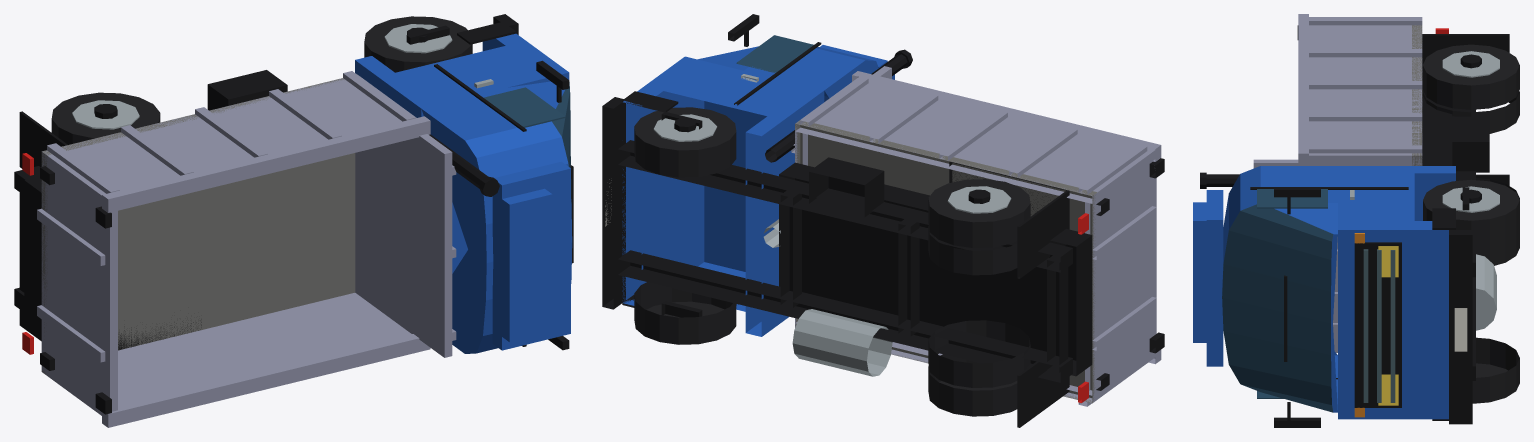
Rendered from empty.glb.
3 views of the same model, side by side, from view 1: azimuth 30°, elevation 25°; view 2: azimuth 150°, elevation 25°; view 3: azimuth 270°, elevation 25° (orthographic). The views are drawn at different scales.
Visible parts, largest first — view 1: empty_bed, empty_cab_upper, empty_air_dam_top, empty_headboard, empty_air_dam, empty_cab_arch, empty_front1, empty_rear_out1, empty_subframe, empty_cab_back, empty_battery_box, empty_side_window1 (+5 smaller); view 2: empty_bed, empty_subframe, empty_cab_arch, empty_chassis-1, empty_chassis1, empty_cab_back, empty_front1, empty_cab_front, empty_rear_out1, empty_fuel_tank, empty_bumper, empty_front-1 (+13 smaller); view 3: empty_cab_upper, empty_bed, empty_cab_front, empty_rear_out1, empty_grille, empty_front1, empty_bumper, empty_cab_arch, empty_air_dam, empty_front-1, empty_battery_box, empty_air_dam_top (+21 smaller).
Boxes of the visible parts, <box> form: empty_bed: <box>37,71,430,427</box>; empty_cab_upper: <box>421,81,572,353</box>; empty_air_dam_top: <box>502,188,552,342</box>; empty_headboard: <box>418,134,452,357</box>; empty_air_dam: <box>492,161,570,350</box>; empty_cab_arch: <box>395,46,548,273</box>; empty_front1: <box>364,16,472,72</box>; empty_rear_out1: <box>51,92,160,144</box>; empty_subframe: <box>24,176,41,330</box>; empty_cab_back: <box>355,56,437,117</box>; empty_battery_box: <box>207,70,287,110</box>; empty_side_window1: <box>484,87,565,127</box>; empty_bed: <box>795,71,1161,406</box>; empty_subframe: <box>779,162,1092,376</box>; empty_cab_arch: <box>663,61,807,311</box>; empty_chassis-1: <box>618,250,1072,382</box>; empty_chassis1: <box>618,140,1072,272</box>; empty_cab_back: <box>745,86,824,336</box>; empty_front1: <box>634,107,736,177</box>; empty_cab_front: <box>622,56,704,305</box>; empty_rear_out1: <box>928,179,1030,247</box>; empty_fuel_tank: <box>792,309,892,376</box>; empty_bumper: <box>602,97,625,309</box>; empty_front-1: <box>634,282,736,344</box>; empty_cab_upper: <box>1222,166,1337,412</box>; empty_bed: <box>1298,14,1422,352</box>; empty_cab_front: <box>1338,221,1448,419</box>; empty_rear_out1: <box>1423,44,1519,109</box>; empty_grille: <box>1354,242,1401,407</box>; empty_front1: <box>1423,179,1519,246</box>; empty_bumper: <box>1449,230,1472,424</box>; empty_cab_arch: <box>1338,173,1414,220</box>; empty_air_dam: <box>1206,190,1223,366</box>; empty_front-1: <box>1472,337,1519,403</box>; empty_battery_box: <box>1452,116,1489,172</box>; empty_air_dam_top: <box>1193,202,1206,342</box>.
Bounding box in the file's own units: 7.6 × 3.9 × 4.85.
